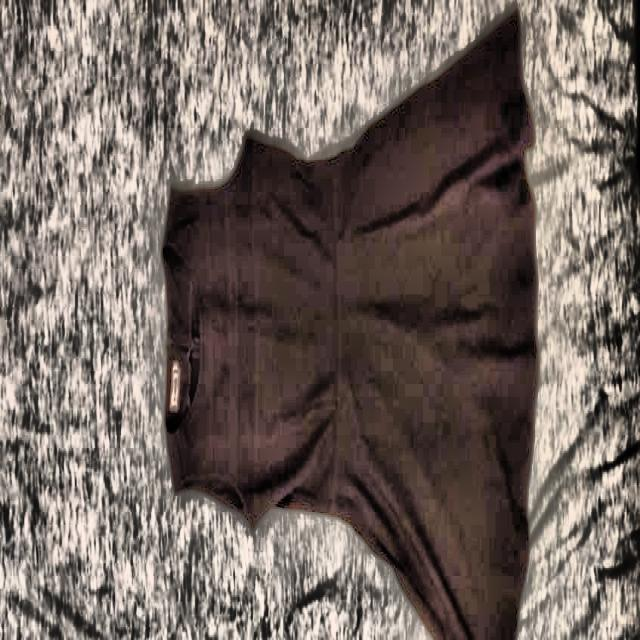clothes: (161, 8, 541, 640)
